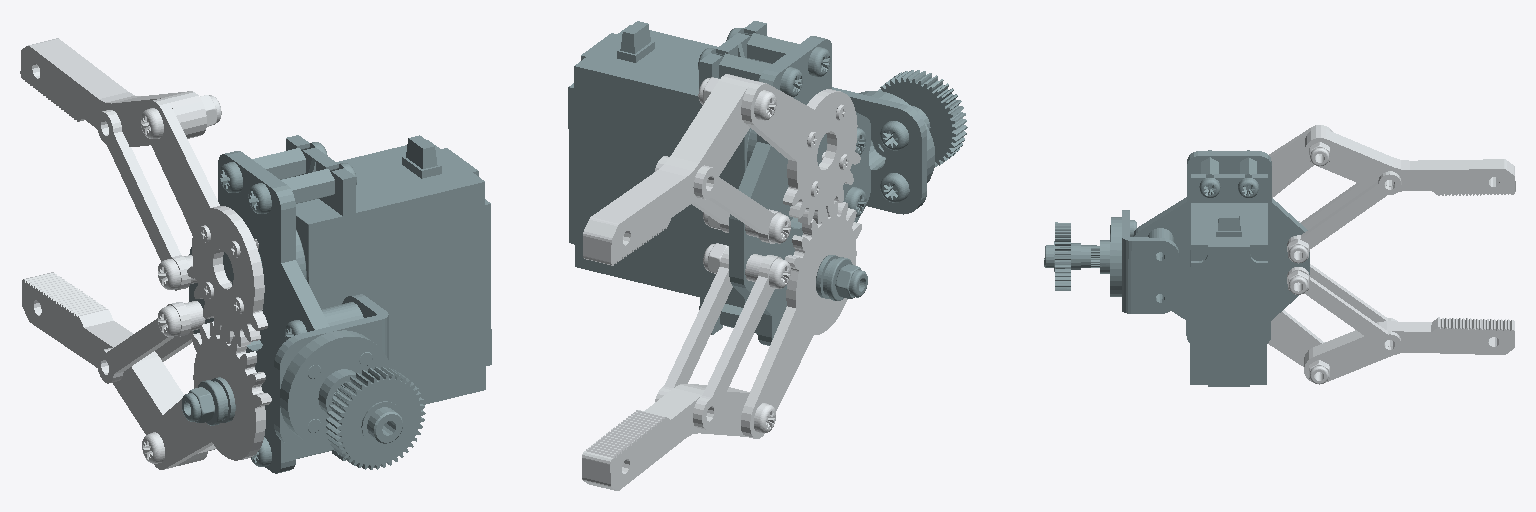
robot.urdf — dofbot_model_4:
<?xml version="1.0" encoding="utf-8"?>
<!-- This URDF was automatically created by SolidWorks to URDF Exporter! Originally created by [author] ([email redacted]) 
     Commit Version: 1.6.0-4-g7f85cfe  Build Version: 1.6.7995.38578
     For more information, please see http://wiki.ros.org/sw_urdf_exporter -->
<robot
  name="dofbot_model_4">
  <link
    name="link0">
    <inertial>
      <origin
        xyz="-0.000630869937049791 -0.00272284476644553 0.0251426999579729"
        rpy="0 0 0" />
      <mass
        value="0.218521102356956" />
      <inertia
        ixx="0.00013713116200003"
        ixy="-2.59520519895193E-09"
        ixz="8.68109134239395E-08"
        iyy="0.000516330768359517"
        iyz="2.43378864992324E-08"
        izz="0.000649929512828085" />
    </inertial>
    <visual>
      <origin
        xyz="0 0 0"
        rpy="0 0 0" />
      <geometry>
        <mesh
          filename="link0.STL" />
      </geometry>
      <material
        name="">
        <color
          rgba="0.05 0.5 0.05 1" />
      </material>
    </visual>
    <collision>
      <origin
        xyz="0 0 0"
        rpy="0 0 0" />
      <geometry>
        <mesh
          filename="link0.STL" />
      </geometry>
    </collision>
  </link>
  <link
    name="link1">
    <inertial>
      <origin
        xyz="-6.90666858886826E-09 -6.03594496506676E-05 0.00152286447759011"
        rpy="0 0 0" />
      <mass
        value="0.0183715854763105" />
      <inertia
        ixx="4.10093332024029E-06"
        ixy="1.13262177866471E-13"
        ixz="-1.48275015467504E-12"
        iyy="3.49985978890086E-06"
        iyz="2.59636577535955E-13"
        izz="6.02692046846154E-06" />
    </inertial>
    <visual>
      <origin
        xyz="0 0 0"
        rpy="0 0 0" />
      <geometry>
        <mesh
          filename="link1.STL" />
      </geometry>
      <material
        name="">
        <color
          rgba="0.0823529411764706 0.0823529411764706 0.0823529411764706 1" />
      </material>
    </visual>
    <collision>
      <origin
        xyz="0 0 0"
        rpy="0 0 0" />
      <geometry>
        <mesh
          filename="link1.STL" />
      </geometry>
    </collision>
  </link>
  <joint
    name="joint1"
    type="continuous">
    <origin
      xyz="0.073174 0 0.082"
      rpy="0 0 1.57" />
    <parent
      link="link0" />
    <child
      link="link1" />
    <axis
      xyz="0 0 1" />
    <limit
      lower="-3.14"
      upper="3.14"
      effort="0"
      velocity="0" />
  </joint>
  <link
    name="link2">
    <inertial>
      <origin
        xyz="-0.00231435724890945 0.0180888793383428 0.028706921672095"
        rpy="0 0 0" />
      <mass
        value="0.0272615590307708" />
      <inertia
        ixx="8.10889495944457E-06"
        ixy="-5.4169492285819E-09"
        ixz="-2.1208985203823E-08"
        iyy="7.12711254985066E-06"
        iyz="8.78814886383463E-08"
        izz="3.53088852948251E-06" />
    </inertial>
    <visual>
      <origin
        xyz="0 0 0"
        rpy="0 0 0" />
      <geometry>
        <mesh
          filename="link2.STL" />
      </geometry>
      <material
        name="">
        <color
          rgba="1 1 1 1" />
      </material>
    </visual>
    <collision>
      <origin
        xyz="0 0 0"
        rpy="0 0 0" />
      <geometry>
        <mesh
          filename="link2.STL" />
      </geometry>
    </collision>
  </link>
  <joint
    name="joint2"
    type="revolute">
    <origin
      xyz="0 -0.0183 0.0255"
      rpy="0 -1.57 0" />
    <parent
      link="link1" />
    <child
      link="link2" />
    <axis
      xyz="0 1 0" />
    <limit
      lower="0.0"
      upper="3.14"
      effort="0"
      velocity="0" />
  </joint>
  <link
    name="link3">
    <inertial>
      <origin
        xyz="-0.00236593950490799 0.0183846006451629 0.0293234088210084"
        rpy="0 0 0" />
      <mass
        value="0.02666773714095" />
      <inertia
        ixx="8.09686062404557E-06"
        ixy="-5.42015823344338E-09"
        ixz="-2.12131667846446E-08"
        iyy="7.10878357901191E-06"
        iyz="8.85609364651575E-08"
        izz="3.52270513647482E-06" />
    </inertial>
    <visual>
      <origin
        xyz="0 0 0"
        rpy="0 0 0" />
      <geometry>
        <mesh
          filename="link3.STL" />
      </geometry>
      <material
        name="">
        <color
          rgba="0.898039215686275 0.917647058823529 0.929411764705882 1" />
      </material>
    </visual>
    <collision>
      <origin
        xyz="0 0 0"
        rpy="0 0 0" />
      <geometry>
        <mesh
          filename="link3.STL" />
      </geometry>
    </collision>
  </link>
  <joint
    name="joint3"
    type="revolute">
    <origin
      xyz="0 0 0.08285"
      rpy="0 -1.57 0" />
    <parent
      link="link2" />
    <child
      link="link3" />
    <axis
      xyz="0 1 0" />
    <limit
      lower="-1.05"
      upper="4.19"
      effort="0"
      velocity="0" />
  </joint>
  <link
    name="link4">
    <inertial>
      <origin
        xyz="-0.00681134175550657 0.0184948061343636 0.0372858044136836"
        rpy="0 0 0" />
      <mass
        value="0.0528488230735073" />
      <inertia
        ixx="9.46903856307977E-06"
        ixy="1.57924587766119E-08"
        ixz="-9.39518539659495E-07"
        iyy="1.20741745084248E-05"
        iyz="8.24659280027491E-08"
        izz="8.19879350690381E-06" />
    </inertial>
    <visual>
      <origin
        xyz="0 0 0"
        rpy="0 0 0" />
      <geometry>
        <mesh
          filename="link4.STL" />
      </geometry>
      <material
        name="">
        <color
          rgba="1 1 1 1" />
      </material>
    </visual>
    <collision>
      <origin
        xyz="0 0 0"
        rpy="0 0 0" />
      <geometry>
        <mesh
          filename="link4.STL" />
      </geometry>
    </collision>
  </link>
  <joint
    name="joint4"
    type="revolute">
    <origin
      xyz="0 0.000599999999990254 0.0828499999999967"
      rpy="0 -1.57 0" />
    <parent
      link="link3" />
    <child
      link="link4" />
    <axis
      xyz="0 1 0" />
    <limit
      lower="-0.16"
      upper="3.3"
      effort="0"
      velocity="0" />
  </joint>
  <link
    name="link5">
    <inertial>
      <origin
        xyz="0.0176815308690605 -0.0022635413508904 0.022604685405326"
        rpy="0 0 0" />
      <mass
        value="0.0418569364255667" />
      <inertia
        ixx="6.99586967754123E-06"
        ixy="-1.67020757357891E-08"
        ixz="-2.34670844360073E-08"
        iyy="2.52296753903044E-06"
        iyz="9.25701156973376E-09"
        izz="6.21465716862123E-06" />
    </inertial>
    <visual>
      <origin
        xyz="0 0 0"
        rpy="0 0 0" />
      <geometry>
        <mesh
          filename="link5.STL" />
      </geometry>
      <material
        name="">
        <color
          rgba="0.592156862745098 0.666666666666667 0.682352941176471 1" />
      </material>
    </visual>
    <collision>
      <origin
        xyz="0 0 0"
        rpy="0 0 0" />
      <geometry>
        <mesh
          filename="link5.STL" />
      </geometry>
    </collision>
  </link>
  <joint
    name="joint5"
    type="continuous">
    <origin
      xyz="-0.00216911459875002 0.0183050000000032 0.0816240000000007"
      rpy="0 0 -1.57" />
    <parent
      link="link4" />
    <child
      link="link5" />
    <axis
      xyz="0 0 1" />
  </joint>
  <link
    name="link6_left_1">
    <inertial>
      <origin
        xyz="-0.00339999880359126 0.00355660256695792 0.00520074131607585"
        rpy="0 0 0" />
      <mass
        value="0.00120907040824823" />
      <inertia
        ixx="2.00146532223371E-07"
        ixy="1.39244231087663E-14"
        ixz="5.89729285238537E-15"
        iyy="1.11217606267192E-07"
        iyz="-6.83349222734393E-08"
        izz="8.97349724892413E-08" />
    </inertial>
    <visual>
      <origin
        xyz="0 0 0"
        rpy="0 0 0" />
      <geometry>
        <mesh
          filename="link6_left_1.STL" />
      </geometry>
      <material
        name="">
        <color
          rgba="0.898039215686275 0.917647058823529 0.929411764705882 1" />
      </material>
    </visual>
    <collision>
      <origin
        xyz="0 0 0"
        rpy="0 0 0" />
      <geometry>
        <mesh
          filename="link6_left_1.STL" />
      </geometry>
    </collision>
  </link>
  <joint
    name="link6_left_joint_1"
    type="revolute">
    <origin
      xyz="-0.00108088540125051 0.012375 0.025800000000001"
      rpy="0 0 0" />
    <parent
      link="link5" />
    <child
      link="link6_left_1" />
    <axis
      xyz="-1 0 0" />
    <limit
      lower="-0.785"
      upper="0.785"
      effort="0"
      velocity="0" />
  </joint>
  <link
    name="link6_left_2">
    <inertial>
      <origin
        xyz="0.0050250597371003 -0.0057226479073307 0.0213296894547329"
        rpy="0 0 0" />
      <mass
        value="0.00244687320927404" />
      <inertia
        ixx="5.92983773287778E-07"
        ixy="5.37305341187747E-18"
        ixz="6.08806851843526E-17"
        iyy="5.64620816939342E-07"
        iyz="8.85798004515056E-08"
        izz="3.25199092231284E-08" />
    </inertial>
    <visual>
      <origin
        xyz="0 0 0"
        rpy="0 0 0" />
      <geometry>
        <mesh
          filename="link6_left_2.STL" />
      </geometry>
      <material
        name="">
        <color
          rgba="0.898039215686275 0.917647058823529 0.929411764705882 1" />
      </material>
    </visual>
    <collision>
      <origin
        xyz="0 0 0"
        rpy="0 0 0" />
      <geometry>
        <mesh
          filename="link6_left_2.STL" />
      </geometry>
    </collision>
  </link>
  <joint
    name="link6_left_joint_2"
    type="revolute">
    <origin
      xyz="-0.00440000000000004 0.0186727156720229 0.0234804107594351"
      rpy="0 0 0" />
    <parent
      link="link6_left_1" />
    <child
      link="link6_left_2" />
    <axis
      xyz="1 0 0" />
    <limit
      lower="-0.785"
      upper="0.785"
      effort="0"
      velocity="0" />
  </joint>
  <link
    name="link6_right_1">
    <inertial>
      <origin
        xyz="-0.00298097234159814 -0.00364215362990373 0.00544495023902947"
        rpy="0 0 0" />
      <mass
        value="0.00117789150916815" />
      <inertia
        ixx="1.92891955978902E-07"
        ixy="1.42924514783364E-14"
        ixz="-4.99968414472896E-15"
        iyy="1.063314791268E-07"
        iyz="6.55217055506567E-08"
        izz="8.75632645272516E-08" />
    </inertial>
    <visual>
      <origin
        xyz="0 0 0"
        rpy="0 0 0" />
      <geometry>
        <mesh
          filename="link6_right_1.STL" />
      </geometry>
      <material
        name="">
        <color
          rgba="0.898039215686275 0.917647058823529 0.929411764705882 1" />
      </material>
    </visual>
    <collision>
      <origin
        xyz="0 0 0"
        rpy="0 0 0" />
      <geometry>
        <mesh
          filename="link6_right_1.STL" />
      </geometry>
    </collision>
  </link>
  <joint
    name="link6_right_joint_1"
    type="revolute">
    <origin
      xyz="-0.00173088540125052 -0.012625 0.025800000000001"
      rpy="0 0 0" />
    <parent
      link="link5" />
    <child
      link="link6_right_1" />
    <axis
      xyz="1 0 0" />
    <limit
      lower="-0.785"
      upper="0.785"
      effort="0"
      velocity="0" />
  </joint>
  <link
    name="link6_right_2">
    <inertial>
      <origin
        xyz="0.0050250597371003 0.00590754740821361 0.0212792207328644"
        rpy="0 0 0" />
      <mass
        value="0.00244687320927405" />
      <inertia
        ixx="5.9298377328778E-07"
        ixy="5.37306078399846E-18"
        ixz="6.08807644115593E-17"
        iyy="5.6304327297767E-07"
        iyz="-9.31842528208619E-08"
        izz="3.40974531848027E-08" />
    </inertial>
    <visual>
      <origin
        xyz="0 0 0"
        rpy="0 0 0" />
      <geometry>
        <mesh
          filename="link6_right_2.STL" />
      </geometry>
      <material
        name="">
        <color
          rgba="0.898039215686275 0.917647058823529 0.929411764705882 1" />
      </material>
    </visual>
    <collision>
      <origin
        xyz="0 0 0"
        rpy="0 0 0" />
      <geometry>
        <mesh
          filename="link6_right_2.STL" />
      </geometry>
    </collision>
  </link>
  <joint
    name="link6_right_joint_2"
    type="revolute">
    <origin
      xyz="-0.00400000000000003 -0.01865124444305 0.023497469666447"
      rpy="0 0 0" />
    <parent
      link="link6_right_1" />
    <child
      link="link6_right_2" />
    <axis
      xyz="-1 0 0" />
    <limit
      lower="-0.785"
      upper="0.785"
      effort="0"
      velocity="0" />
  </joint>
  <link
    name="link6_left_3">
    <inertial>
      <origin
        xyz="0.00519828042470263 0.00701358935782589 0.00906454981608873"
        rpy="0 0 0" />
      <mass
        value="0.000739505304165949" />
      <inertia
        ixx="6.07344157323627E-08"
        ixy="5.37301247405999E-18"
        ixz="6.08807478022973E-17"
        iyy="3.8216609835163E-08"
        iyz="-2.8097347171242E-08"
        izz="2.3642843911116E-08" />
    </inertial>
    <visual>
      <origin
        xyz="0 0 0"
        rpy="0 0 0" />
      <geometry>
        <mesh
          filename="link6_left_3.STL" />
      </geometry>
      <material
        name="">
        <color
          rgba="0.898039215686275 0.917647058823529 0.929411764705882 1" />
      </material>
    </visual>
    <collision>
      <origin
        xyz="0 0 0"
        rpy="0 0 0" />
      <geometry>
        <mesh
          filename="link6_left_3.STL" />
      </geometry>
    </collision>
  </link>
  <joint
    name="link6_left_joint_3"
    type="continuous">
    <origin
      xyz="-0.00548088540125052 0.00449999999999994 0.043800000000001"
      rpy="0 0 0" />
    <parent
      link="link5" />
    <child
      link="link6_left_3" />
    <axis
      xyz="-1 0 0" />
  </joint>
  <link
    name="link6_right_3">
    <inertial>
      <origin
        xyz="0.00519828042470236 -0.00704051530776503 0.0090436520802906"
        rpy="0 0 0" />
      <mass
        value="0.000739505304165948" />
      <inertia
        ixx="6.07344157323627E-08"
        ixy="5.37302679152716E-18"
        ixz="6.08807917166253E-17"
        iyy="3.80493647725665E-08"
        iyz="2.81401908099872E-08"
        izz="2.38100889737125E-08" />
    </inertial>
    <visual>
      <origin
        xyz="0 0 0"
        rpy="0 0 0" />
      <geometry>
        <mesh
          filename="link6_right_3.STL" />
      </geometry>
      <material
        name="">
        <color
          rgba="0.898039215686275 0.917647058823529 0.929411764705882 1" />
      </material>
    </visual>
    <collision>
      <origin
        xyz="0 0 0"
        rpy="0 0 0" />
      <geometry>
        <mesh
          filename="link6_right_3.STL" />
      </geometry>
    </collision>
  </link>
  <joint
    name="link6_right_joint_3"
    type="continuous">
    <origin
      xyz="-0.00548088540125052 -0.00450000000000005 0.043800000000001"
      rpy="0 0 0" />
    <parent
      link="link5" />
    <child
      link="link6_right_3" />
    <axis
      xyz="1 0 0" />
  </joint>
</robot>

--- What the picture shows (computed from the rendered views, not written in the file) ---
Views: 3 orthographic renders of the robot side by side, from view 1: azimuth 30°, elevation 25°; view 2: azimuth 150°, elevation 25°; view 3: azimuth 270°, elevation 25°.
Robot: dofbot_model_4 — 12 links, 11 joints (7 revolute, 4 continuous); root link link0; default pose: every joint at zero.
Visible links, largest first — view 1: link5, link6_right_1, link6_left_2, link6_right_2, link6_left_1, link6_right_3, link6_left_3; view 2: link5, link6_right_2, link6_right_1, link6_left_1, link6_left_2, link6_left_3, link6_right_3; view 3: link5, link6_right_2, link6_left_2, link6_left_3, link6_right_3, link6_right_1, link6_left_1.
Link boxes in pixels (<box>): link5: <box>182,135,491,473</box>; link6_right_1: <box>145,98,267,346</box>; link6_left_2: <box>22,272,216,466</box>; link6_right_2: <box>20,38,221,146</box>; link6_left_1: <box>146,321,271,469</box>; link6_right_3: <box>97,110,196,290</box>; link6_left_3: <box>97,301,204,383</box>; link5: <box>568,21,967,345</box>; link6_right_2: <box>583,74,776,265</box>; link6_right_1: <box>741,81,860,224</box>; link6_left_1: <box>741,201,861,438</box>; link6_left_2: <box>582,384,775,490</box>; link6_left_3: <box>655,243,790,429</box>; link6_right_3: <box>655,156,790,243</box>; link5: <box>1044,150,1309,386</box>; link6_right_2: <box>1305,128,1515,195</box>; link6_left_2: <box>1304,317,1514,384</box>; link6_left_3: <box>1287,264,1400,354</box>; link6_right_3: <box>1287,171,1401,263</box>; link6_right_1: <box>1269,125,1332,197</box>; link6_left_1: <box>1268,310,1324,366</box>.
Size in the robot's own frame: 0.0554 by 0.1221 by 0.0703 metres.
7 mesh visuals loaded from 12 distinct referenced files (7 binary STL); not drawn: 5 (reference not matched to a file when rendering).